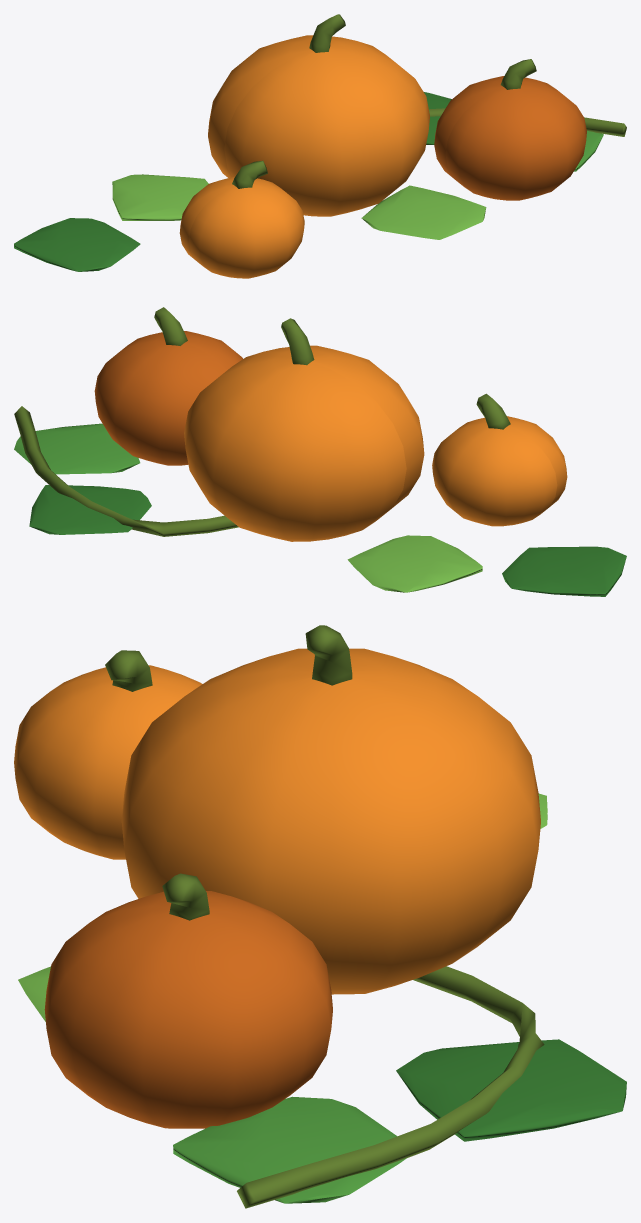
Rendered from Pumpkins.glb.
3 views of the same model, one above another, from view 1: azimuth 30°, elevation 25°; view 2: azimuth 150°, elevation 25°; view 3: azimuth 270°, elevation 25° (orthographic). The views are drawn at different scales.
Visible parts, largest first — view 1: Body, Rustle; view 2: Body, Rustle; view 3: Body, Rustle.
Part boxes in pixels (box(x1,y1,x2,y2)): Body: box(179, 14, 626, 278); Rustle: box(14, 92, 603, 271); Body: box(14, 307, 567, 541); Rustle: box(14, 423, 626, 596); Body: box(14, 625, 544, 1208); Rustle: box(18, 793, 626, 1203).
Size of the model in its own units: 4.5 by 1.39 by 2.15.
Materials: 2 (2 with a texture image).
